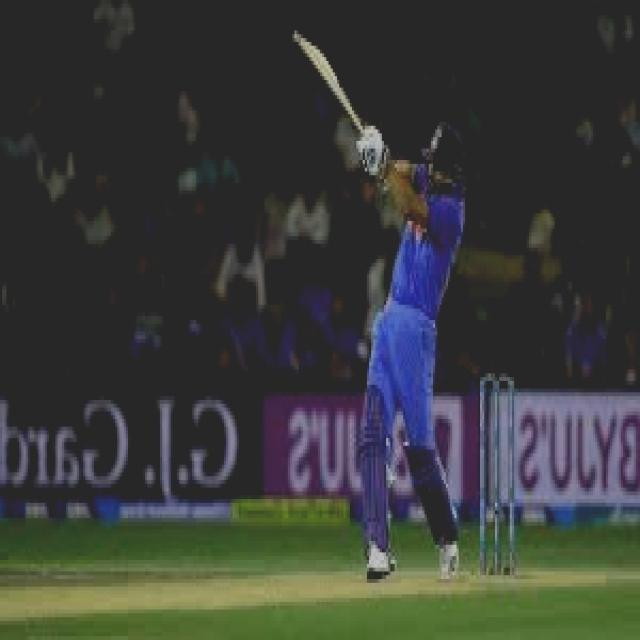toe: (282, 17, 312, 62)
